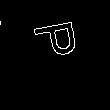P_E: (34, 21, 88, 66)
